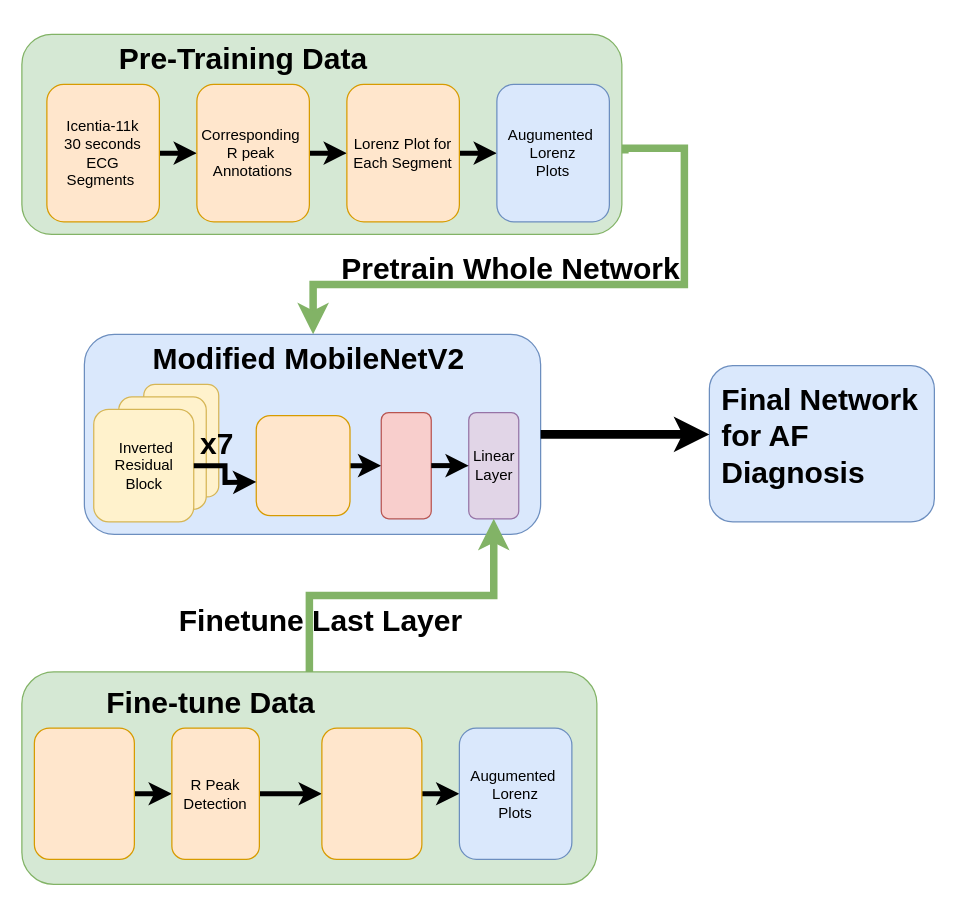
Some shapes in this 956 by 906 pixel diagram are drawn without their labels. Each missing label, with the centre of its shape:
"Conv2d Norm Activation" belongs at (302,465).
"Derived Lorenz Plots for Each Signal" belongs at (371,793).
"Drop out" belongs at (405,465).
"SAFER Training ECG Signals" belongs at (83,793).
